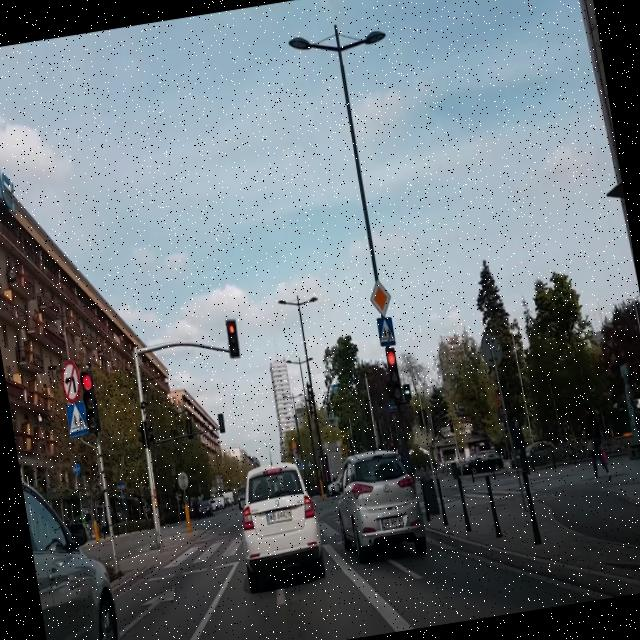Droga z pierwszenstwem: (366, 277, 394, 318)
